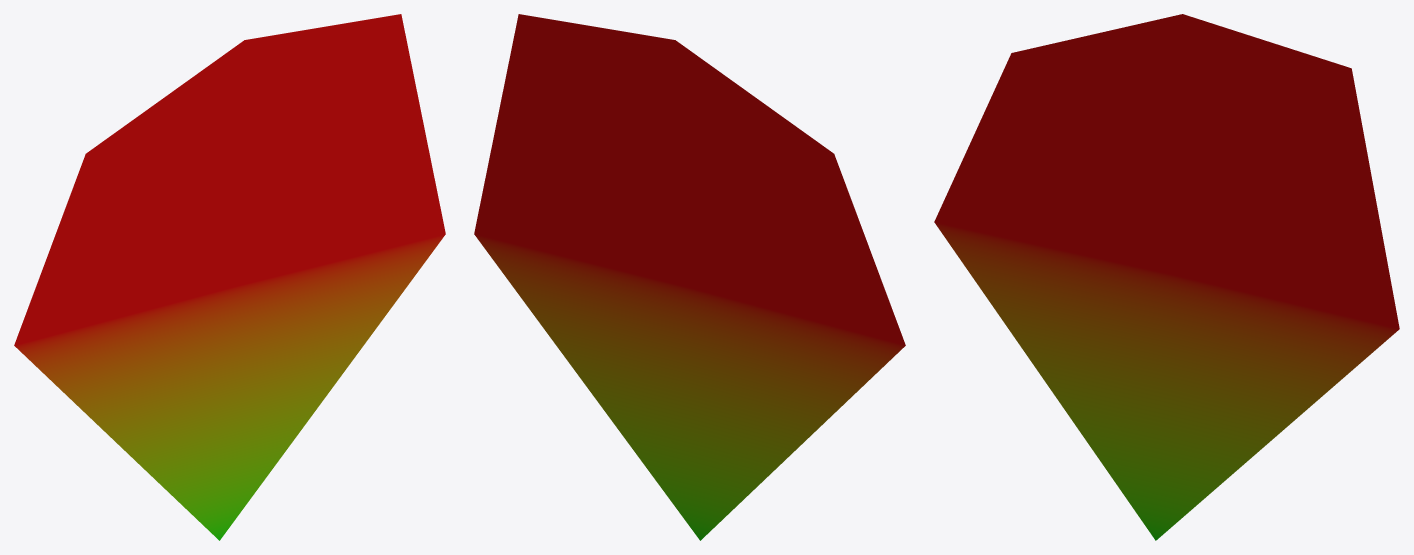
Rendered from Black Locust_LOD4_Var14.fbx.
3 renders of one model, left to right at view 1: azimuth 30°, elevation 25°; view 2: azimuth 150°, elevation 25°; view 3: azimuth 330°, elevation 25°, orthographic. The views are drawn at different scales.
Parts seen in each view (by area): view 1: _fa2f_Var14_LOD4; view 2: _fa2f_Var14_LOD4; view 3: _fa2f_Var14_LOD4.
Part boxes in pixels (bbox=[...]): _fa2f_Var14_LOD4: bbox=[14, 14, 445, 540]; _fa2f_Var14_LOD4: bbox=[474, 14, 905, 540]; _fa2f_Var14_LOD4: bbox=[934, 14, 1399, 540].
Bounding box in the file's own units: 44.56 × 48.8 × 5.09e-11.
